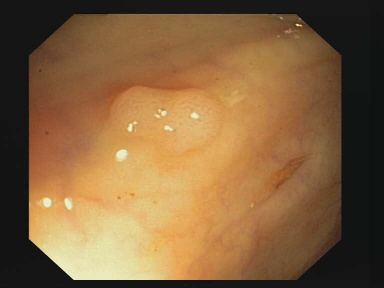polyp: (99, 68, 251, 159)
